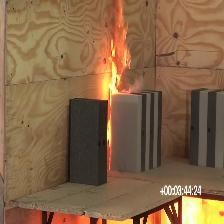fire: (107, 18, 131, 113)
